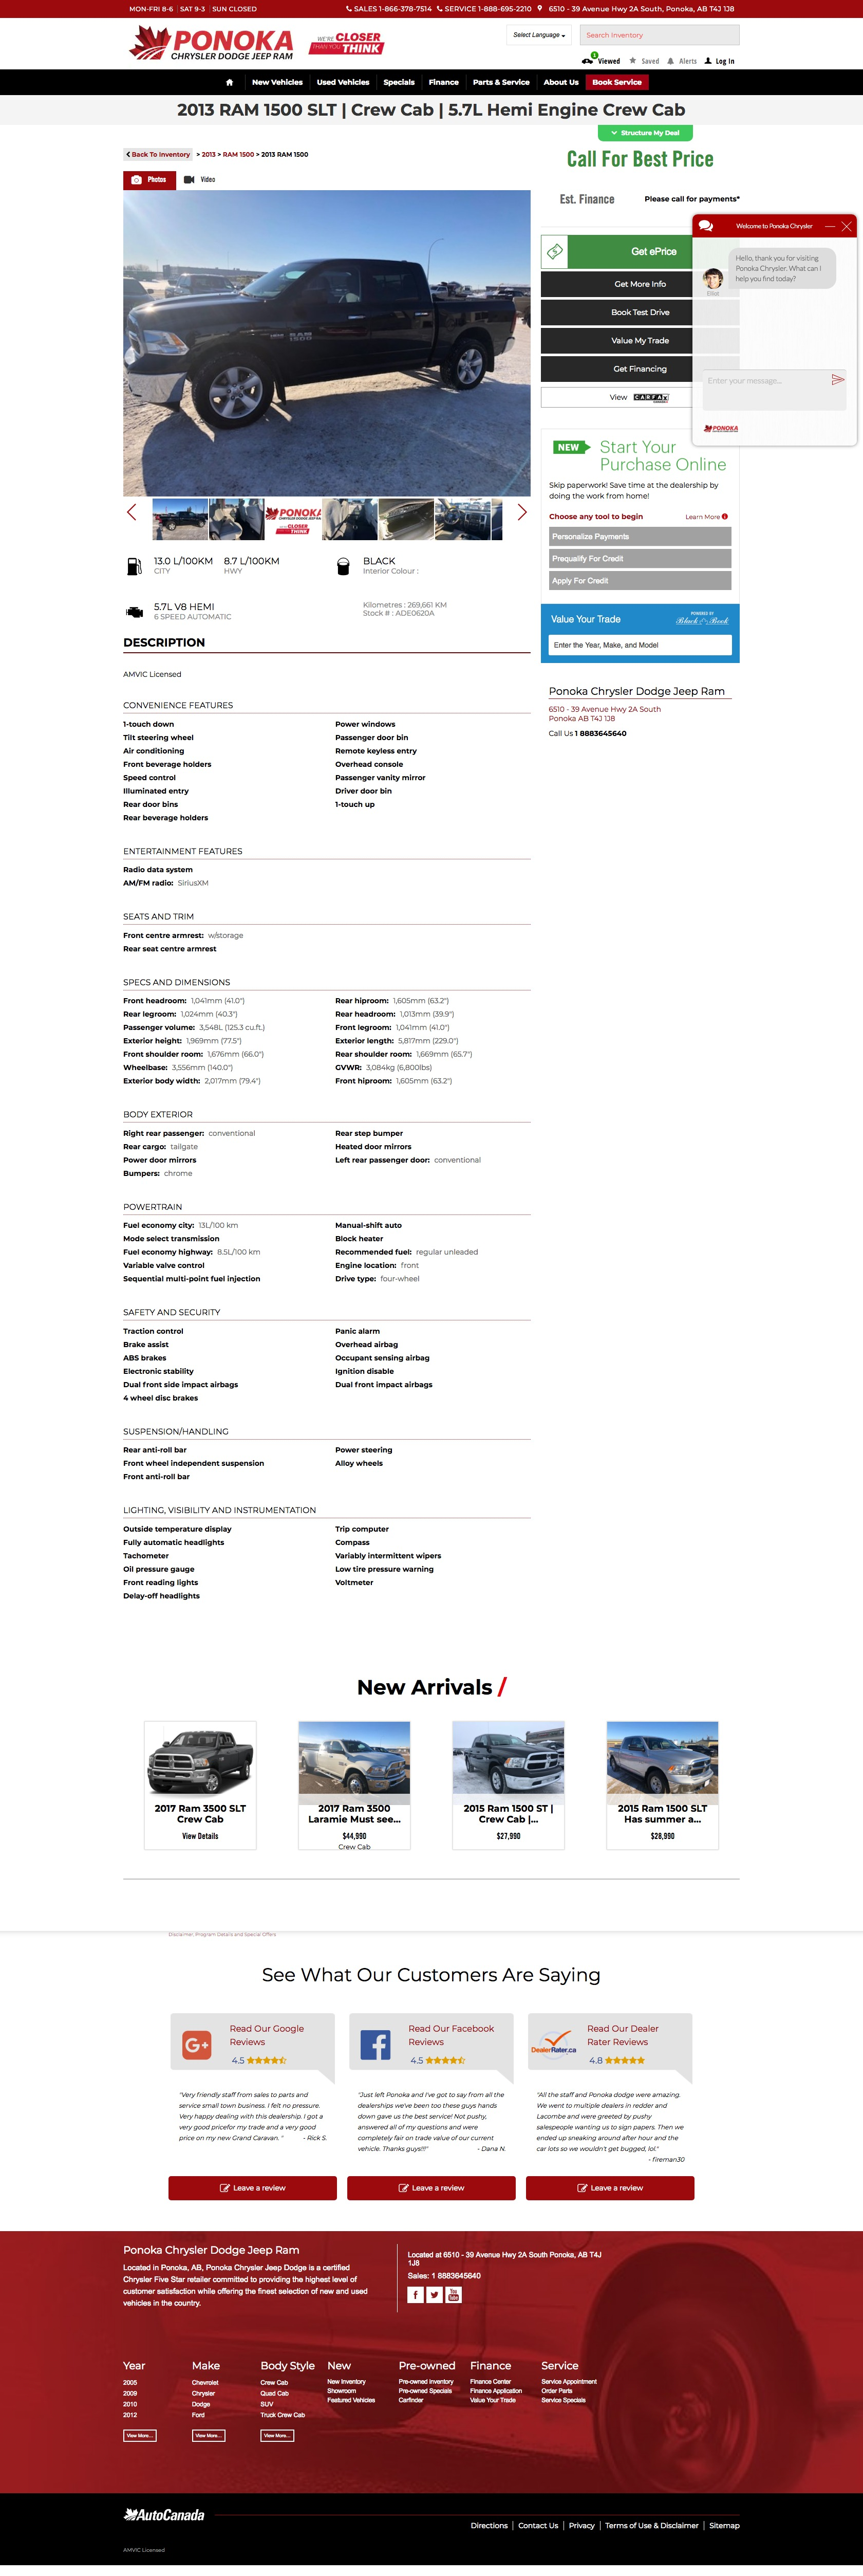car: (517, 503, 530, 522)
